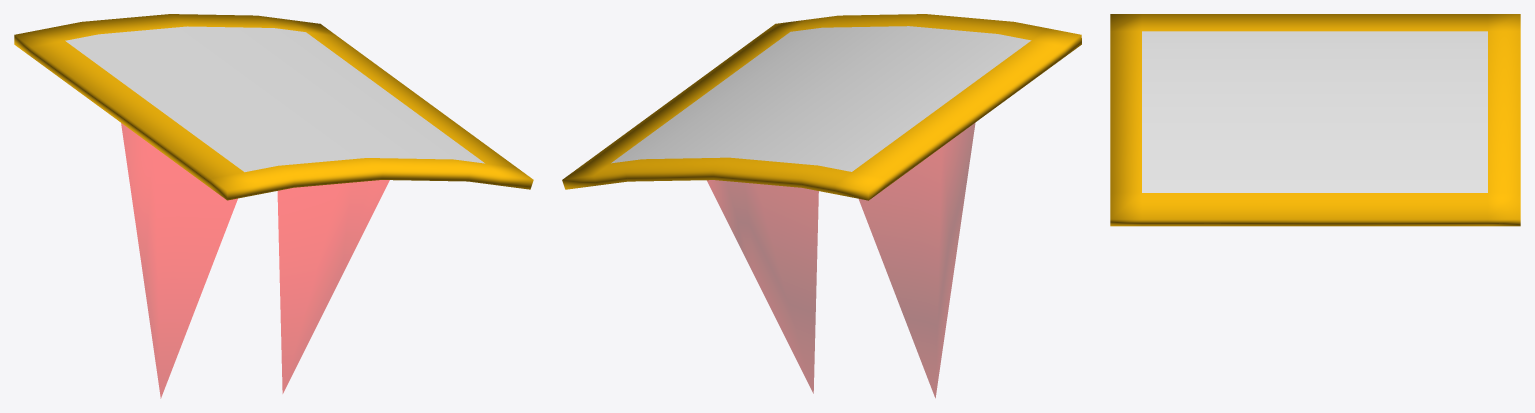
The model's file is FlickNote00.fbx.
3 views of the same model, side by side, from view 1: azimuth 30°, elevation 25°; view 2: azimuth 150°, elevation 25°; view 3: azimuth 270°, elevation 25° (orthographic). The views are drawn at different scales.
Visible parts, largest first — view 1: FlickNote00; view 2: FlickNote00; view 3: FlickNote00.
Part boxes in pixels (bbox=[...]): FlickNote00: bbox=[14, 14, 533, 398]; FlickNote00: bbox=[562, 14, 1081, 397]; FlickNote00: bbox=[1110, 14, 1520, 226].
Size of the model in its own units: 33.2 by 40 by 33.23.
